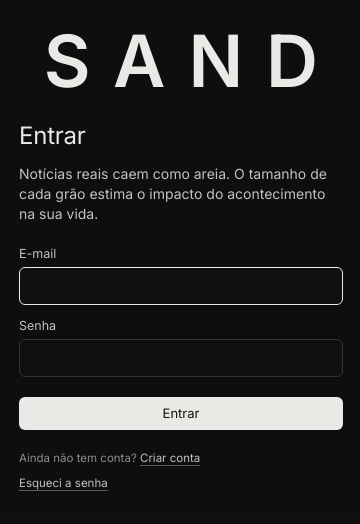
Test: login and first-login questionnaire › forgot password: asks for the e-mail, then confirms the link was sent
Click the button "Esqueci a senha": click(63, 483) 19,474 -> 108,491
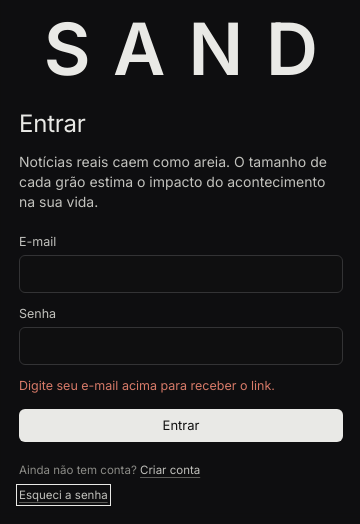
Expected: the message shows "Digite seu e-mail", 19,378 -> 275,393
In the field labelled "E-mail": (181, 274) 19,255 -> 343,293, type "eu@example.com"
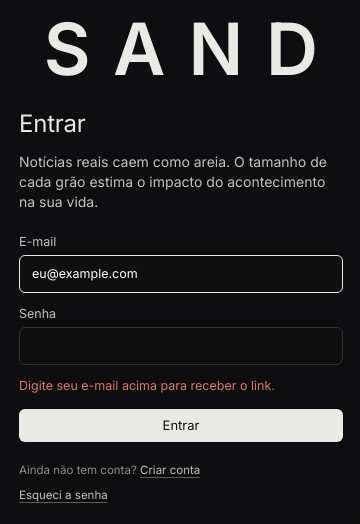
Click the button "Esqueci a senha": click(63, 495) 19,487 -> 108,503
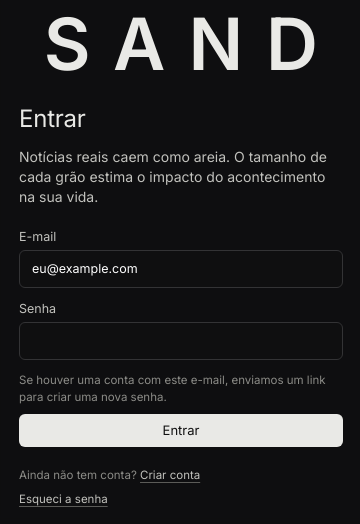
Expected: the message shows "enviamos um link", 19,373 -> 326,404
